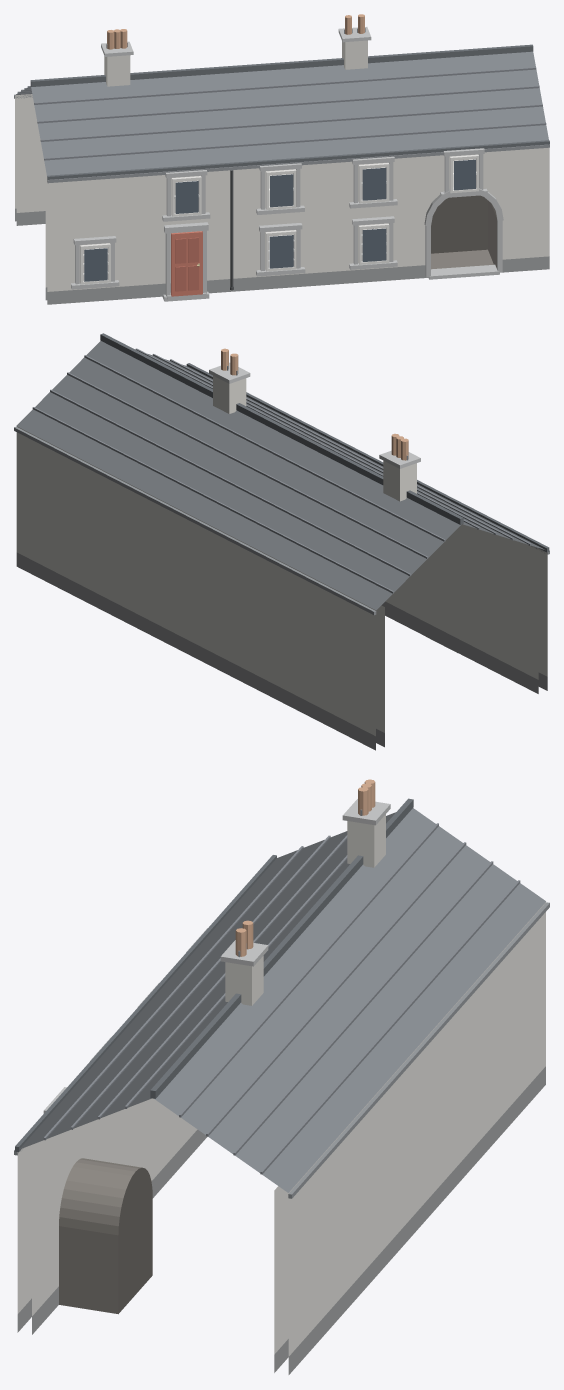
The picture shows the model from 3 angles, top to bottom: view 1: azimuth 30°, elevation 25°; view 2: azimuth 150°, elevation 25°; view 3: azimuth 270°, elevation 25°; orthographic projection. The views are drawn at different scales.
Visible parts, largest first — view 1: slate, harl, stone_band, slate_lt, slate_dk, plinth, frame, pend_dark, lead, chim_render, pend_in, door_red_p (+10 smaller); view 2: harl, slate, plinth, slate_lt, slate_dk, lead, chim_render, stone_band, pot; view 3: slate, harl, slate_lt, pend_in, plinth, slate_dk, pend_dark, chim_render, lead, stone_band, pot.
Part boxes in pixels (<box>): slate: <box>15,51,548,176</box>; harl: <box>15,94,549,291</box>; stone_band: <box>71,27,503,301</box>; slate_lt: <box>17,67,546,160</box>; slate_dk: <box>30,44,549,179</box>; plinth: <box>15,208,549,304</box>; frame: <box>80,154,478,284</box>; pend_dark: <box>431,195,487,253</box>; lead: <box>14,28,549,183</box>; chim_render: <box>104,40,367,86</box>; pend_in: <box>431,200,496,269</box>; door_red_p: <box>175,237,198,291</box>; harl: <box>16,426,547,736</box>; slate: <box>16,341,544,610</box>; plinth: <box>16,552,547,750</box>; slate_lt: <box>32,348,531,593</box>; slate_dk: <box>100,333,549,552</box>; lead: <box>14,365,549,615</box>; chim_render: <box>213,375,416,501</box>; stone_band: <box>209,362,457,652</box>; pot: <box>221,348,408,460</box>; slate: <box>19,808,545,1192</box>; harl: <box>17,902,545,1356</box>; slate_lt: <box>43,823,520,1174</box>; pend_in: <box>59,1158,141,1313</box>; plinth: <box>17,1066,545,1374</box>; slate_dk: <box>15,798,413,1152</box>; pend_dark: <box>118,1167,152,1313</box>; chim_render: <box>225,814,385,1005</box>; lead: <box>14,809,549,1198</box>; stone_band: <box>43,799,390,1113</box>; pot: <box>235,779,375,956</box>.
Bounding box in the file's own units: 16.62 × 7.64 × 11.22.
